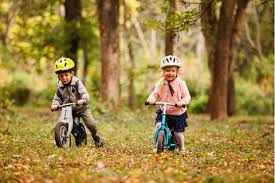child: (137, 51, 201, 159), (42, 51, 107, 153)
